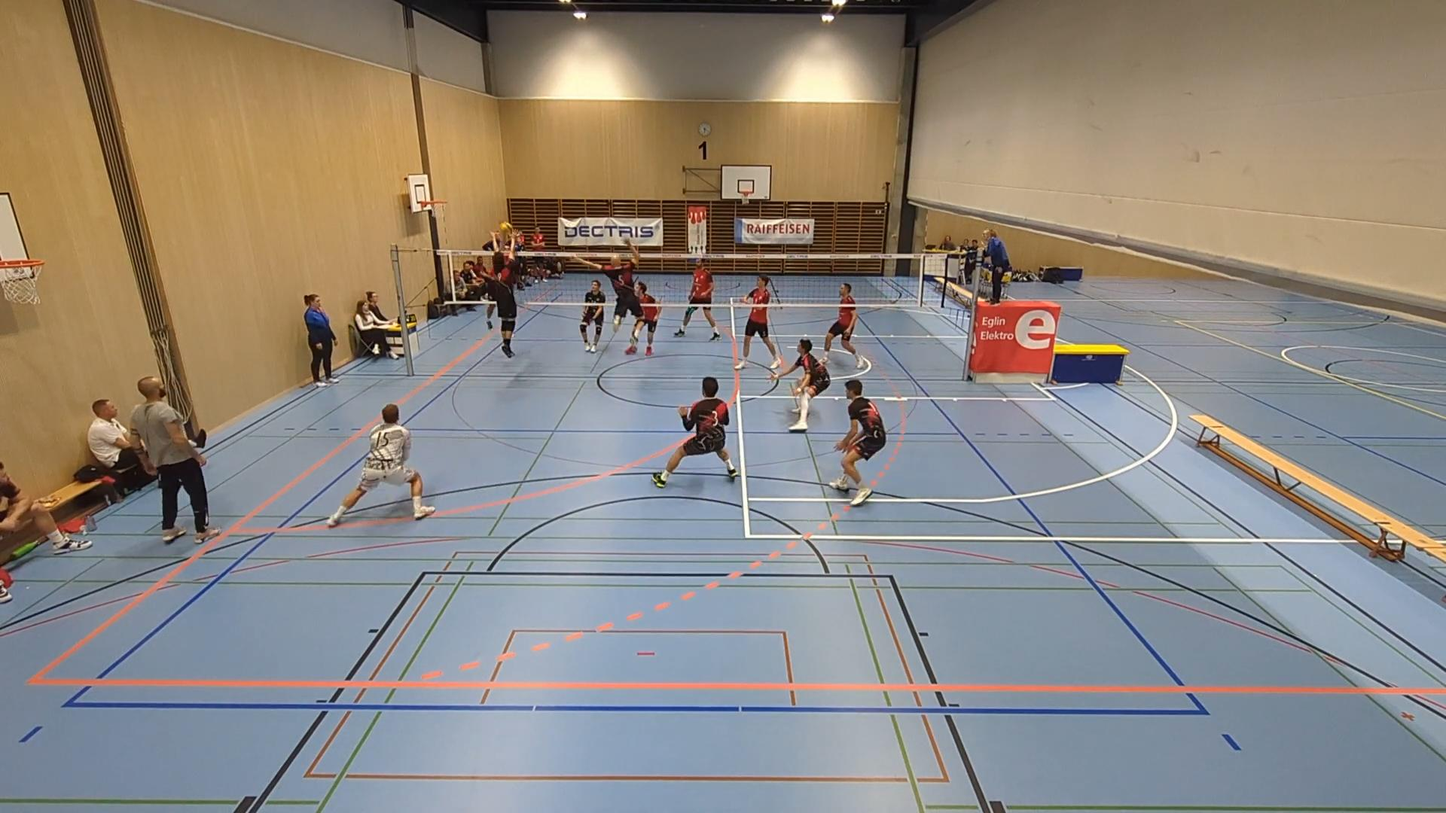Block: (574, 240, 653, 358), (476, 226, 535, 361)
Player: (327, 403, 435, 526), (653, 376, 737, 487), (830, 379, 886, 506), (770, 338, 829, 431), (735, 275, 781, 369), (674, 259, 720, 340), (824, 283, 865, 368), (625, 282, 660, 355), (580, 280, 605, 352)
